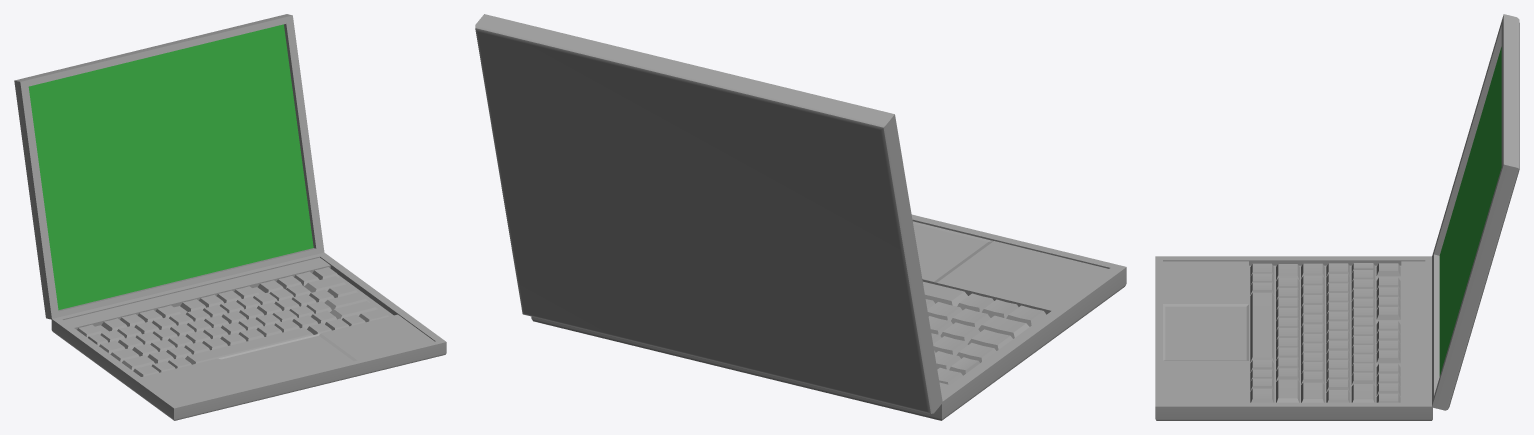
Rendered from Laptop.fbx.
The picture shows the model from 3 angles, left to right: view 1: azimuth 30°, elevation 25°; view 2: azimuth 150°, elevation 25°; view 3: azimuth 270°, elevation 25°; orthographic projection. The views are drawn at different scales.
Visible parts, largest first — view 1: Laptop; view 2: Laptop; view 3: Laptop.
Boxes of the visible parts, left/top/right/bottom form: Laptop: left=14, top=14, right=446, bottom=420; Laptop: left=475, top=14, right=1126, bottom=420; Laptop: left=1155, top=14, right=1519, bottom=420.
Size of the model in its own units: 28.67 by 22.9 by 29.3.
